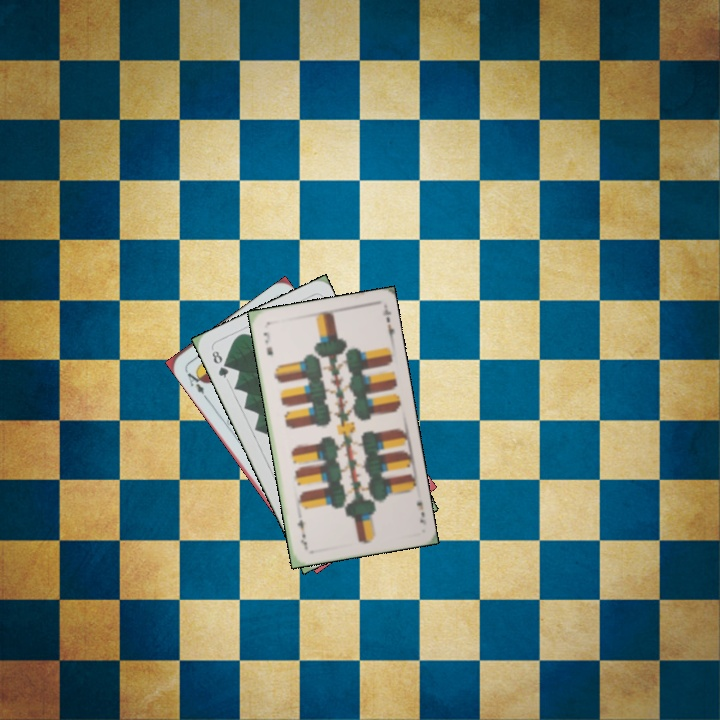E7: (259, 328, 276, 358), (413, 497, 429, 528)
EA: (181, 365, 209, 401)
G8: (208, 346, 231, 381)
